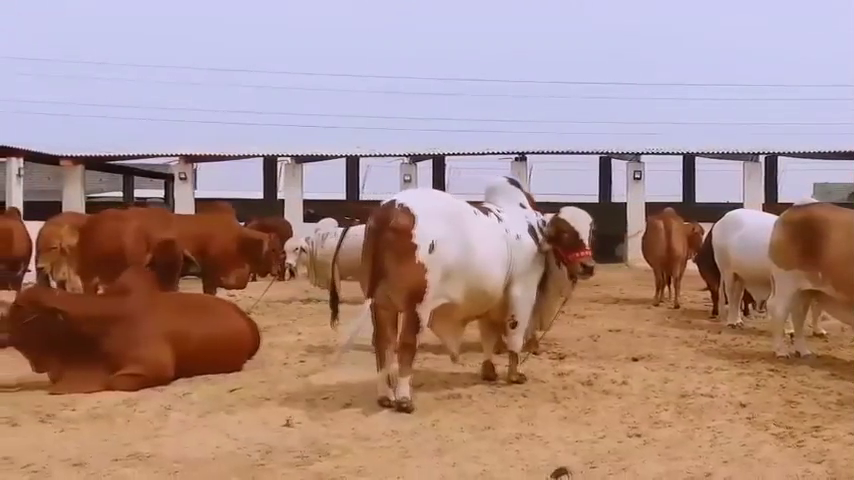bo: (316, 175, 603, 419), (3, 262, 273, 408), (687, 182, 838, 342), (757, 197, 854, 379), (154, 193, 282, 312), (81, 180, 200, 306), (625, 194, 712, 317), (275, 206, 374, 303), (28, 190, 91, 293), (5, 197, 34, 290)
